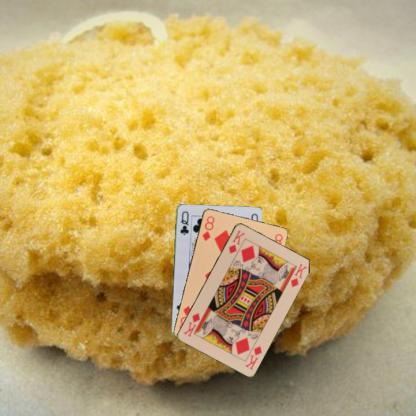8d: (200, 213, 216, 242)
Kd: (226, 227, 247, 255), (243, 343, 263, 371)
Qc: (178, 208, 190, 236)
